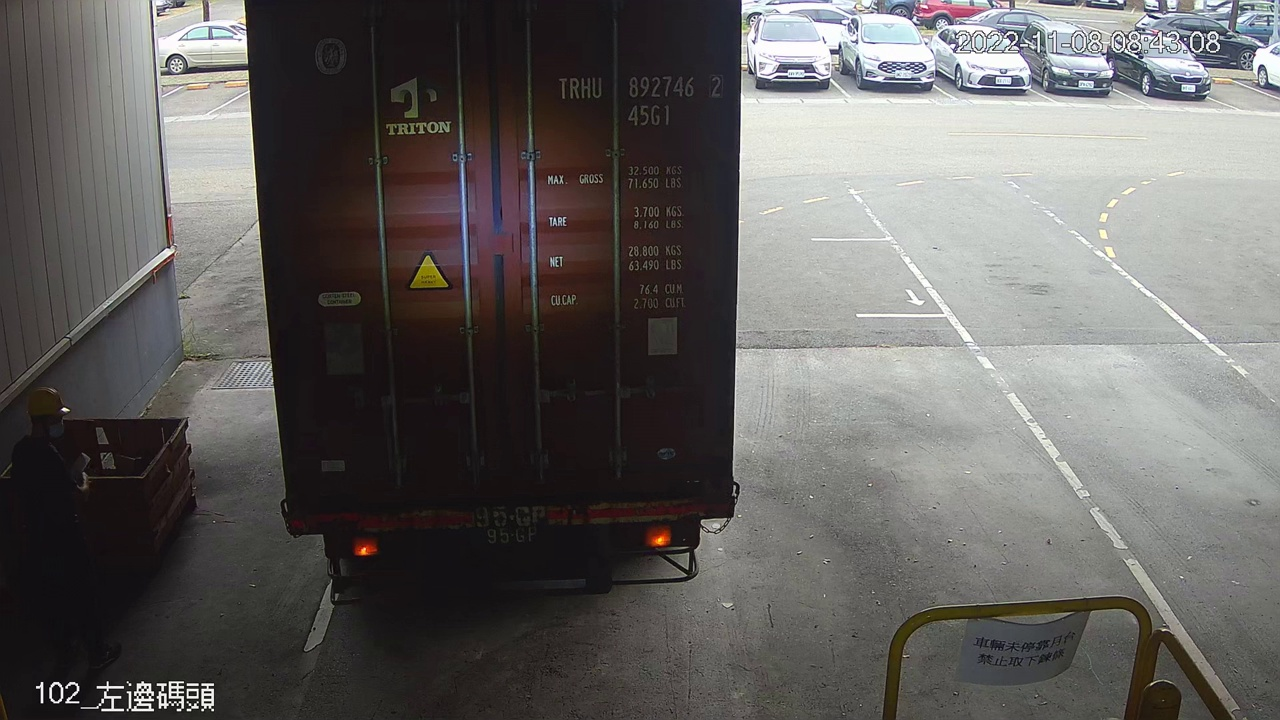container: (549, 66, 733, 137)
